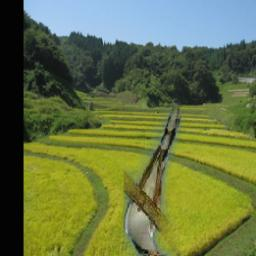Cuckoo: (125, 102, 182, 256)
